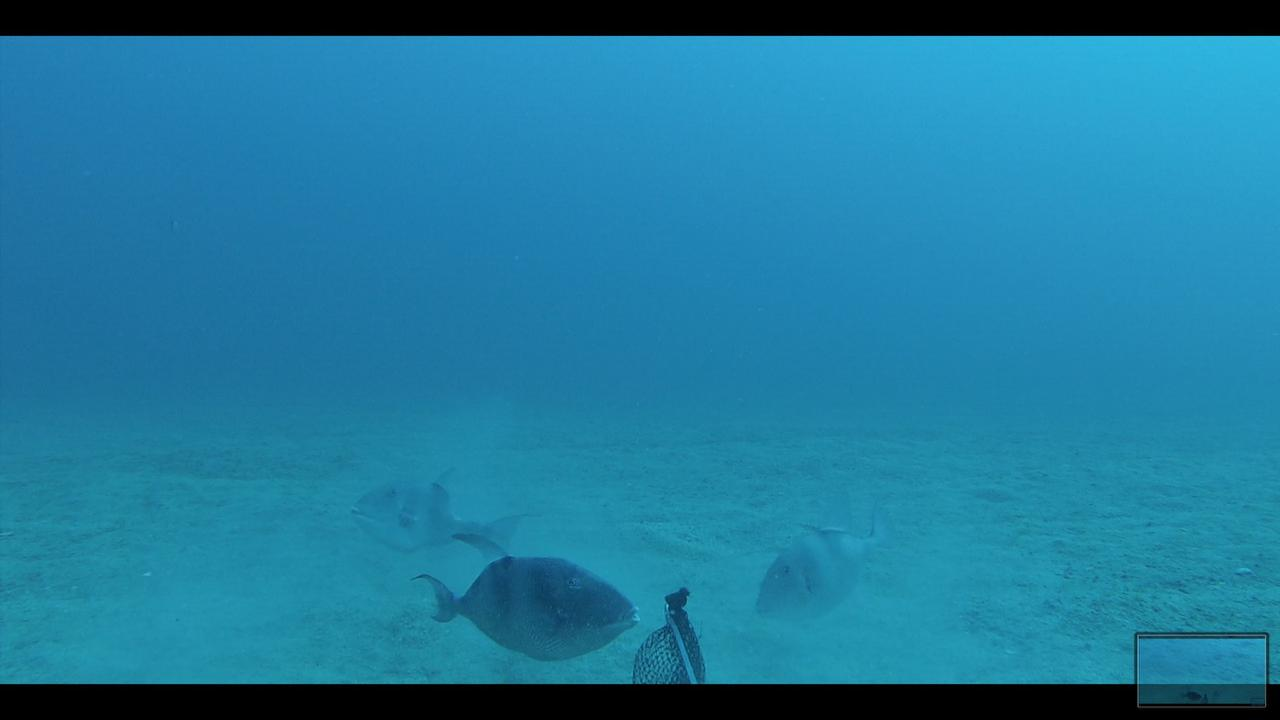balistes: (408, 532, 638, 660), (342, 463, 544, 560), (753, 488, 897, 620)
